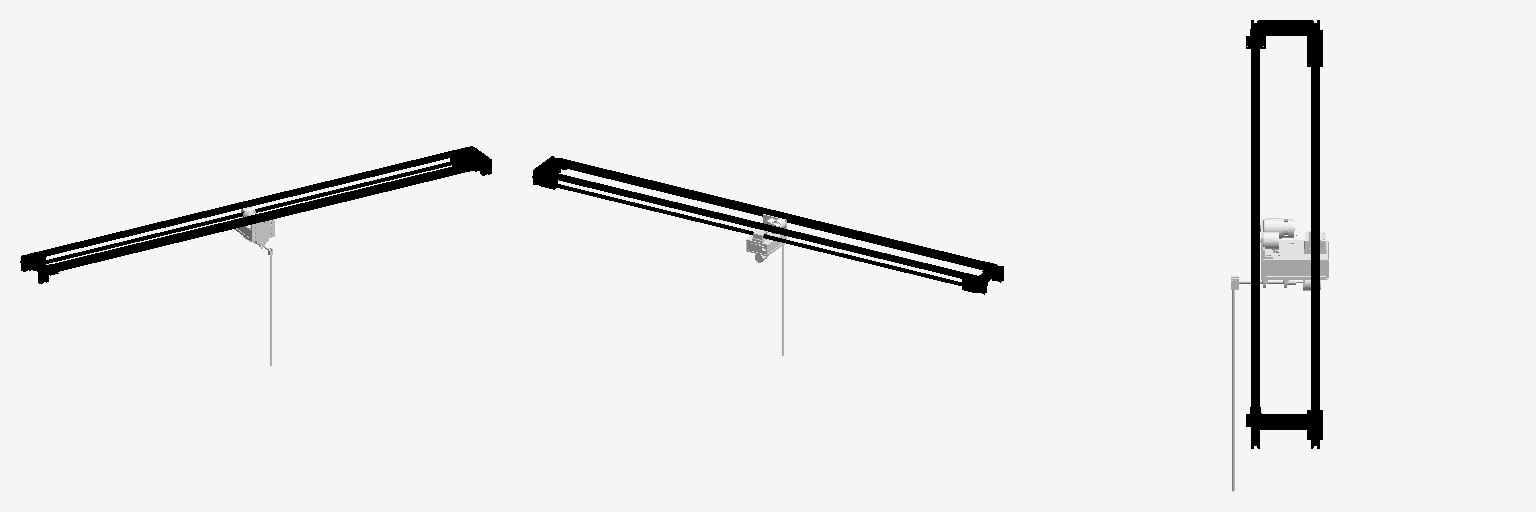
The robot description file, URDF, robot "invurdf2":
<?xml version="1.0" encoding="utf-8"?>
<!-- This URDF was automatically created by SolidWorks to URDF Exporter! Originally created by Stephen Brawner (brawner@gmail.com) 
     Commit Version: 1.6.0-4-g7f85cfe  Build Version: 1.6.7995.38578
     For more information, please see http://wiki.ros.org/sw_urdf_exporter -->
<robot
  name="invurdf2">
  <link
    name="base_link">
    <inertial>
      <origin
        xyz="0.52134 0.080315 0.025851"
        rpy="0 0 0" />
      <mass
        value="3.6147" />
      <inertia
        ixx="0.00044888"
        ixy="-5.5123E-08"
        ixz="1.9241E-15"
        iyy="0.24504"
        iyz="9.1996E-19"
        izz="0.24517" />
    </inertial>
    <visual>
      <origin
        xyz="0 0 0"
        rpy="0 0 0" />
      <geometry>
        <mesh
          filename="../meshes/base_link.STL" scale="2.0 1.0 1.0" />
      </geometry>
      <material
        name="">
        <color
          rgba="0 0 0 1"  />
      </material>
    </visual>
    <collision>
      <origin
        xyz="0 0 0"
        rpy="0 0 0" />
      <geometry>
        <mesh
          filename="../meshes/base_link.STL" />
      </geometry>
    </collision>
  </link>
  <link
    name="cart">
    <inertial>
      <origin
        xyz="-0.063158 -0.056692 0.040187"
        rpy="0 0 0" />
      <mass
        value="0.59648" />
      <inertia
        ixx="0.00028339"
        ixy="3.5327E-07"
        ixz="-1.8517E-07"
        iyy="0.00045456"
        iyz="-5.8837E-07"
        izz="0.00063141" />
    </inertial>
    <visual>
      <origin
        xyz="0 -0.52 0"
        rpy="0 0 0" />
      <geometry>
        <mesh
          filename="../meshes/cart.STL" />
      </geometry>
      <material
        name="">
        <color
          rgba="3 3 3 1" />
      </material>
    </visual>
    <collision>
      <origin
        xyz="0 0 0"
        rpy="0 0 0" />
      <geometry>
        <mesh
          filename="../meshes/cart.STL" />
      </geometry>
    </collision>
  </link>
  <joint
    name="joint1"
    type="prismatic">
    <origin
      xyz="-0.468 0.0206 -0.119"
      rpy="0 0 -1.5708"  />
    <parent
      link="base_link" />
    <child
      link="cart" />
    <axis
      xyz="0 -1 0" />
    <limit
      lower="-0.856"
      upper="0.856"
      effort="15"
      velocity="3" />
  </joint>
  <link
    name="pendulum">
    <inertial>
      <origin
        xyz="-0.057311 -0.047096 -0.15465"
        rpy="0 0 0" />
      <mass
        value="0.30048" />
      <inertia
        ixx="0.0036729"
        ixy="-5.414E-05"
        ixz="-0.001318"
        iyy="0.0040827"
        iyz="-0.0001449"
        izz="0.00056101" />
    </inertial>
    <visual>
      <origin
        xyz="0 0 0"
        rpy="0 0 0" />
      <geometry>
        <mesh
          filename="../meshes/pendulum.STL" />
      </geometry>
      <material
        name="">
        <color
          rgba="1 1 1 1" />
      </material>
    </visual>
    <collision>
      <origin
        xyz="0 0 0"
        rpy="0 0 0" />
      <geometry>
        <mesh
          filename="../meshes/pendulum.STL" />
      </geometry>
    </collision>
  </link>
  <joint
    name="joint2"
    type="revolute">
    <origin
      xyz="0 -0.572199 -0.028"
      rpy="-3.1005 0.35113 -1.5708" />
    <parent
      link="cart" />
    <child
      link="pendulum" />
    <axis
      xyz="0 -0.99915720211753 0.0410473562689422" />
    <limit
      lower="-3.142"
      upper="3.142"
      effort="40"
      velocity="3" />
  </joint>
</robot>

--- Facts derived from the render (not from the file) ---
Views: 3 orthographic renders of the robot side by side, from view 1: azimuth 30°, elevation 25°; view 2: azimuth 150°, elevation 25°; view 3: azimuth 270°, elevation 25°.
Robot: invurdf2 — 3 links, 2 joints (1 revolute, 1 prismatic); root link base_link; default pose: every joint at zero.
Links seen in each view (by area): view 1: base_link, cart; view 2: base_link, cart; view 3: base_link, cart, pendulum.
Boxes of the visible links, box(x1,y1,x2,y2) form: base_link: box(20, 146, 491, 283); cart: box(234, 207, 274, 248); base_link: box(532, 156, 1003, 294); cart: box(746, 214, 786, 262); base_link: box(1246, 20, 1322, 448); cart: box(1260, 218, 1328, 290); pendulum: box(1231, 276, 1295, 491).
Bounding box of the posed robot: 2.08 × 0.2155 × 0.652 m (x, y, z).
3 mesh visuals loaded from 3 distinct referenced files (3 binary STL).
